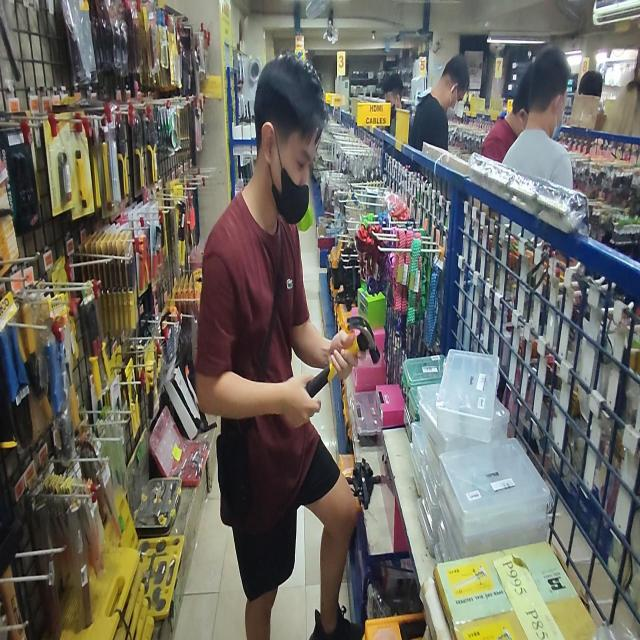hammer: (306, 316, 380, 398)
